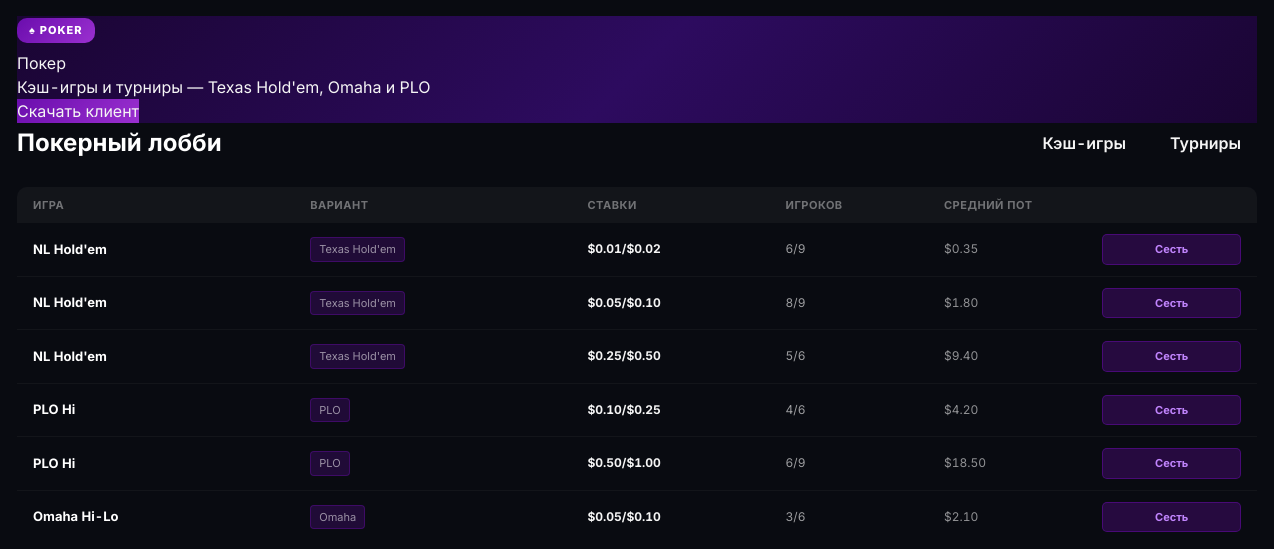
Poker Component › Toast Messages › shows Russian toast when clicking download client button
This screenshot has width=1274, height=549.
Click the button "Скачать клиент": (78, 110) [17,98,139,122]
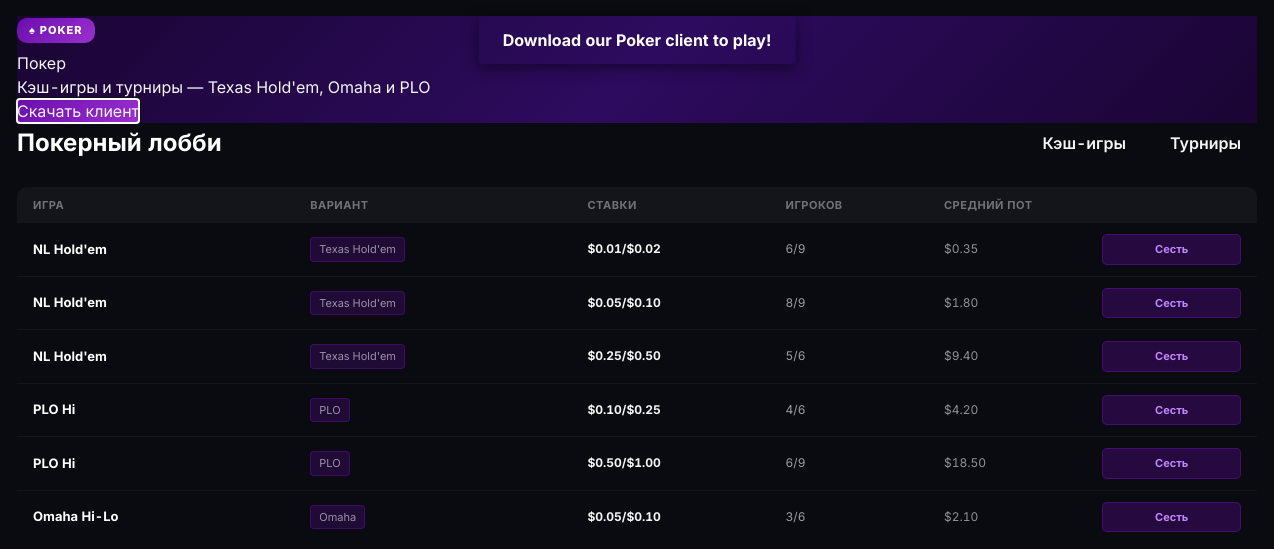
Expected: the text "Download our Poker client to play!" is shown, [479,16,795,64]
